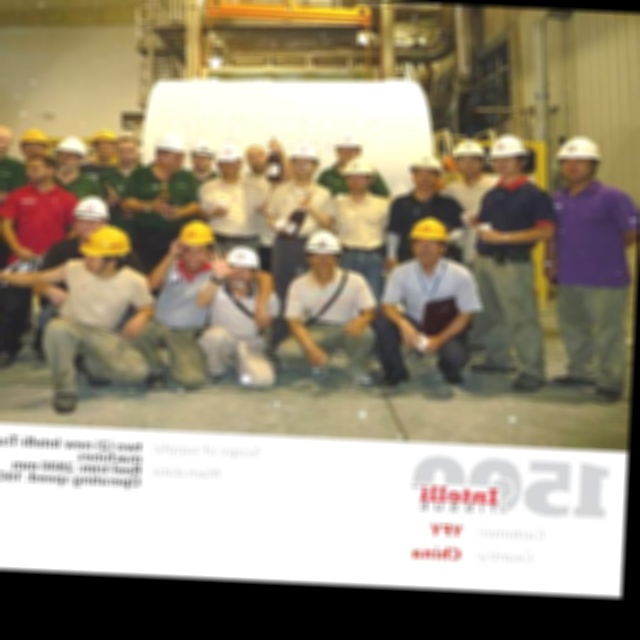Con_Casco: (553, 135, 603, 186), (177, 221, 216, 271), (408, 216, 447, 264), (491, 135, 529, 179)
Sin_Casco_Mascarrilla: (24, 154, 55, 186), (0, 124, 16, 158)
